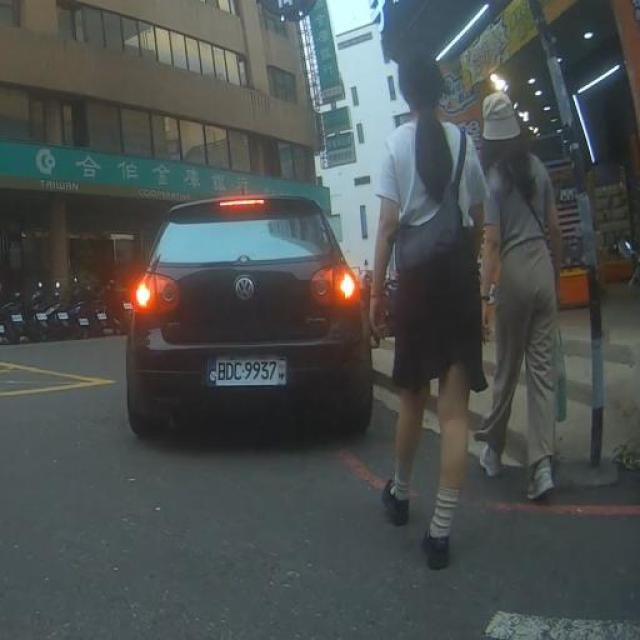Legalparking: (0, 270, 136, 340)
illegalparking: (126, 192, 371, 438)
